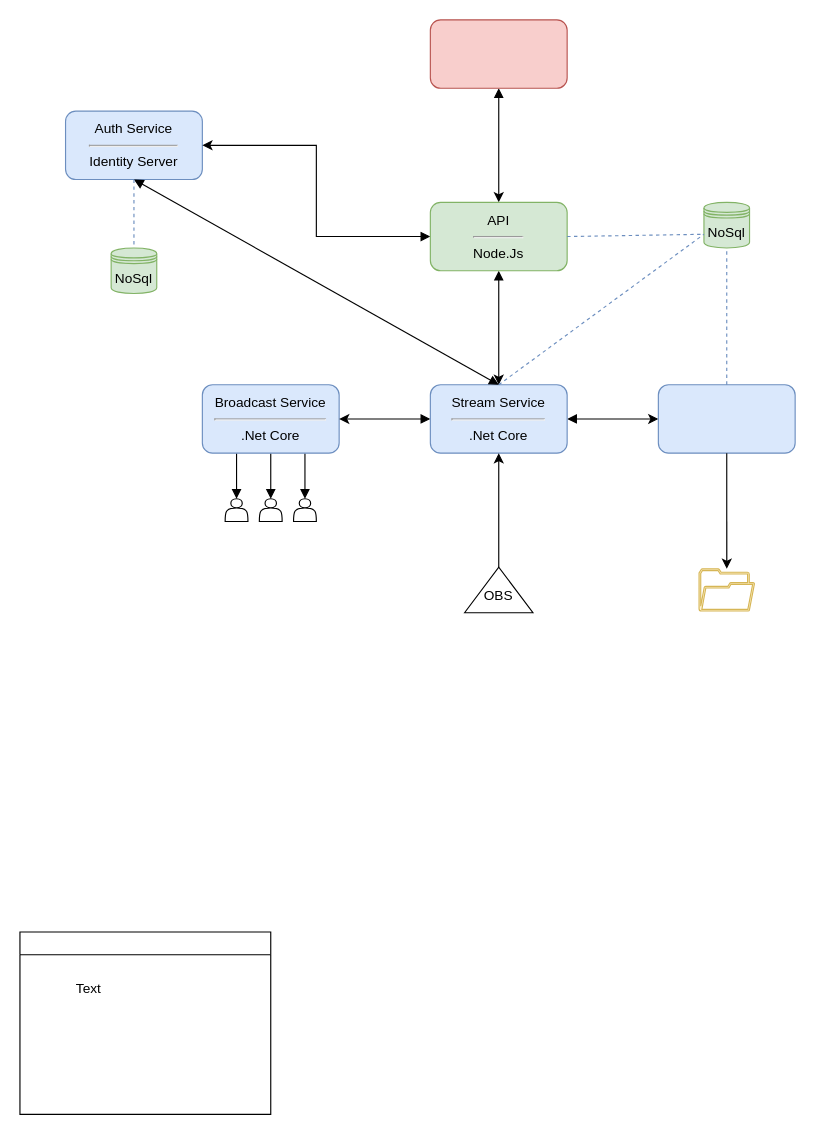
The diagram is 815 pixels wide and 1135 high, and some of its shapes have lost their labels. Here are the shapes that lost their labels. From the top down, the box of each, then its label:
(429, 19, 567, 88): Client Angular
(657, 384, 795, 453): Saving Service .Net Core
(19, 931, 271, 1114): Angular
